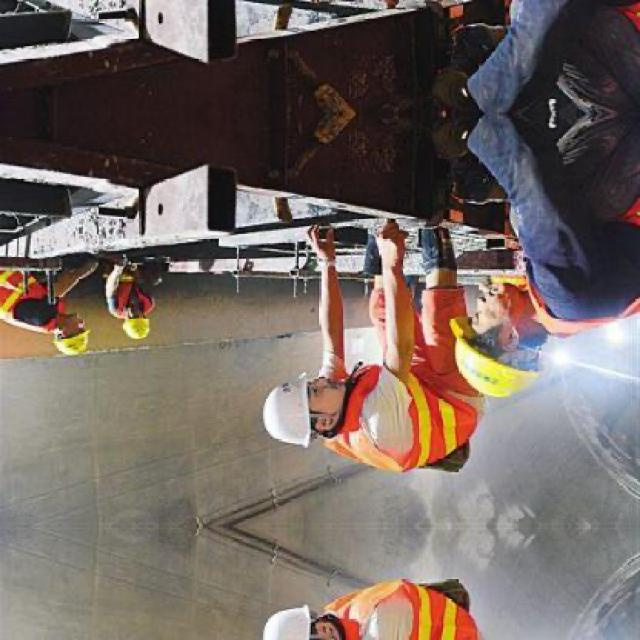con casco: (458, 272, 574, 405), (258, 352, 368, 458), (46, 311, 90, 362), (120, 289, 151, 339)
